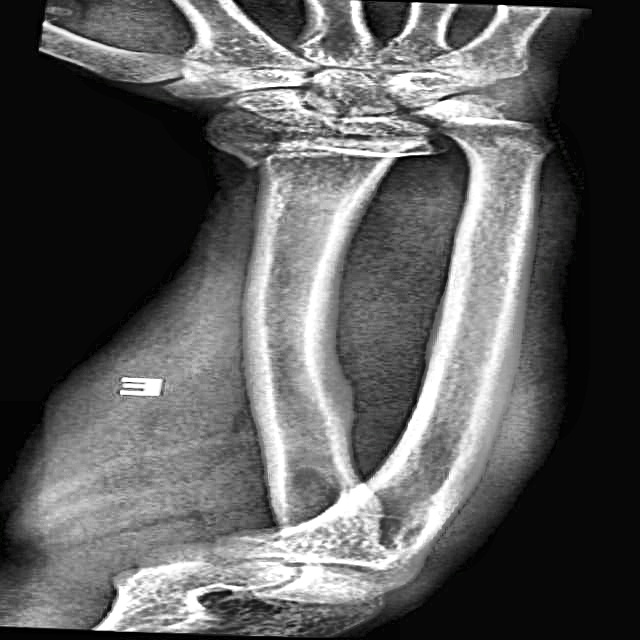Healthy: (177, 146, 571, 516)
